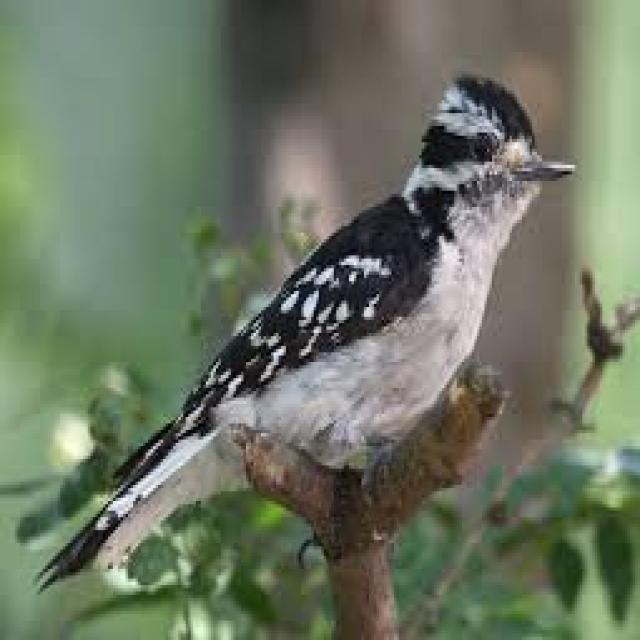Woodpecker: (24, 65, 576, 602)
